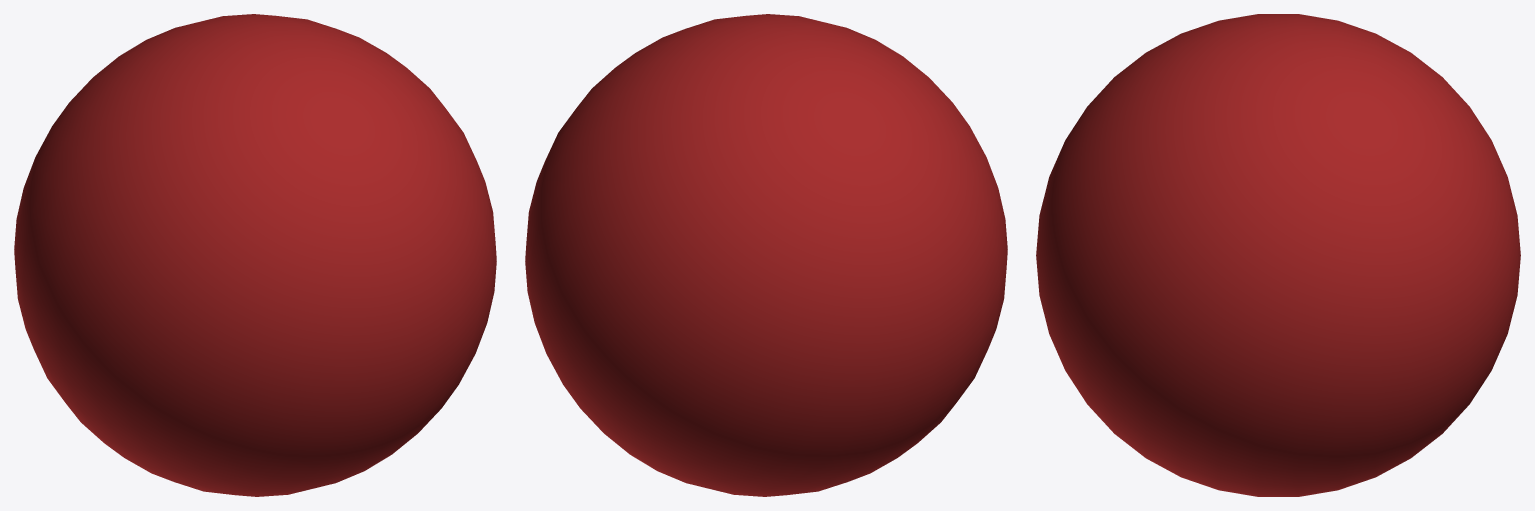
Rendered from red_ball.obj.
The picture shows the model from 3 angles, left to right: view 1: azimuth 30°, elevation 25°; view 2: azimuth 150°, elevation 25°; view 3: azimuth 270°, elevation 25°; orthographic projection.
Parts seen in each view (by area): view 1: Body1; view 2: Body1; view 3: Body1.
Part boxes in pixels (x1,y1,x2,y2): Body1: [14, 14, 496, 496]; Body1: [525, 14, 1007, 496]; Body1: [1036, 14, 1520, 496].
Bounding box in the file's own units: 9.97 × 9.93 × 10.
